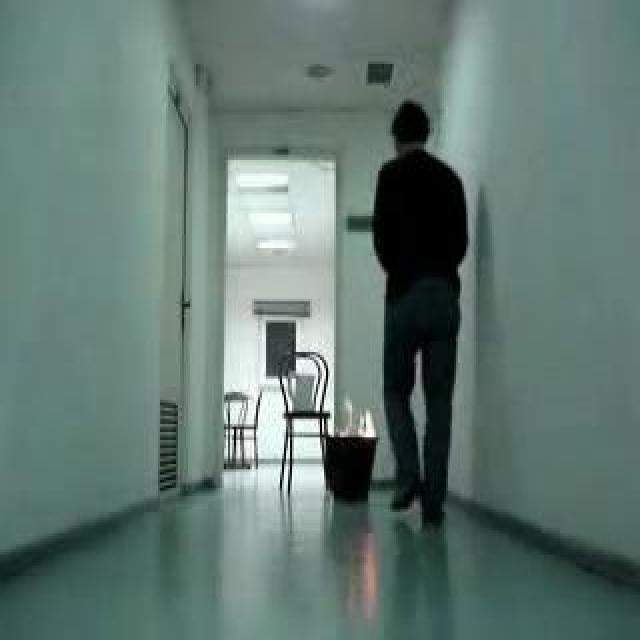Fire: (342, 400, 378, 437)
